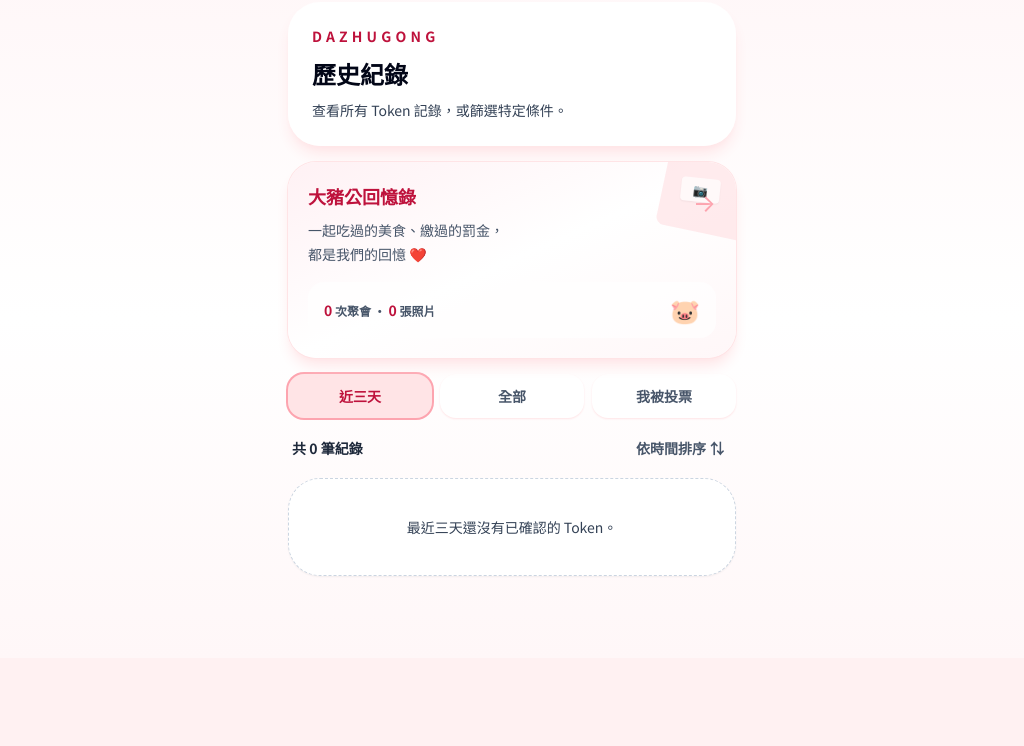
Test: History page › 全部 scope: advanced query › shows the query form with the four filter fields and defaults the date range to the last 3 days
The image size is (1024, 746).
Click the tab "全部" at (512, 396), box [440,374,584,418]
(page scrolled)
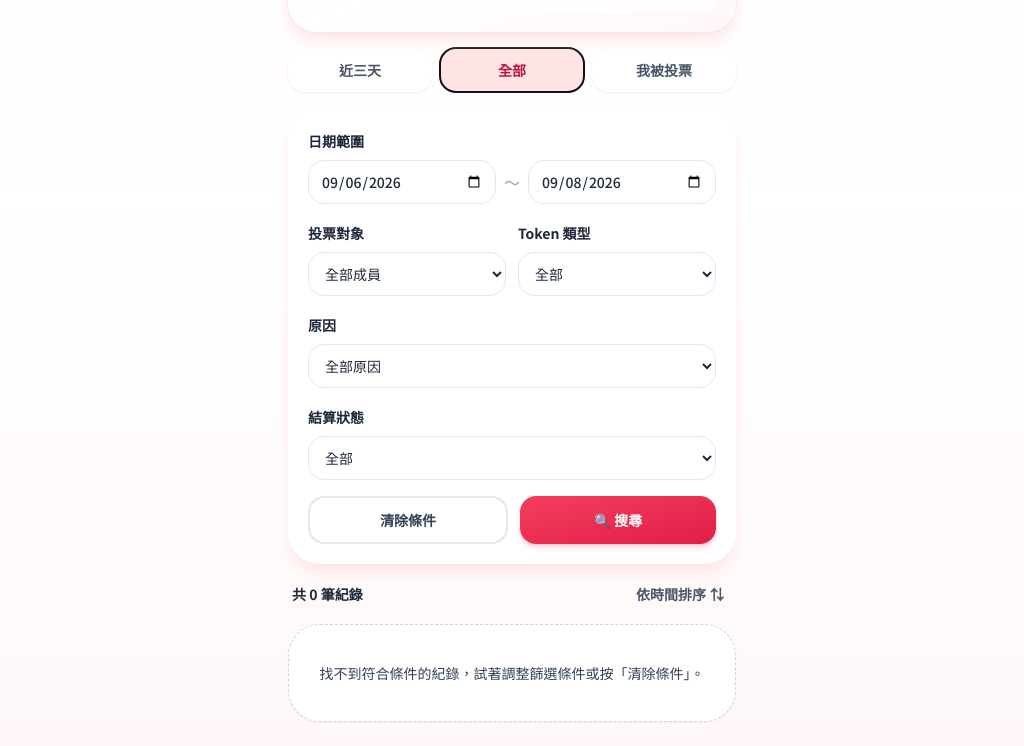
Expected: the dropdown labelled "投票對象" is shown, [308,252,506,296]
Expected: the dropdown labelled "Token 類型" is shown, [518,252,716,296]
Expected: the dropdown labelled "原因" is shown, [308,344,716,388]
